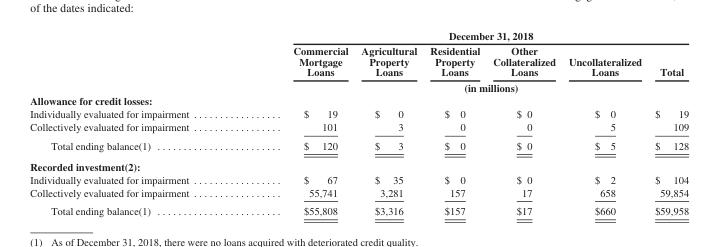table: (29, 29, 688, 216)
table column: (29, 29, 240, 216), (240, 29, 354, 216), (561, 29, 647, 216), (485, 29, 561, 216), (354, 29, 422, 216), (422, 29, 485, 216), (647, 29, 688, 216)
table column header: (29, 29, 688, 93)
table projected row header: (29, 155, 688, 172), (29, 93, 688, 107)
table row: (29, 42, 688, 79), (29, 135, 688, 155), (29, 155, 688, 172), (29, 185, 688, 201), (29, 120, 688, 135), (29, 201, 688, 216), (29, 79, 688, 93), (29, 93, 688, 107), (29, 29, 688, 42), (29, 107, 688, 120), (29, 172, 688, 185)
table spanning cell: (240, 79, 688, 93), (240, 29, 688, 42)
